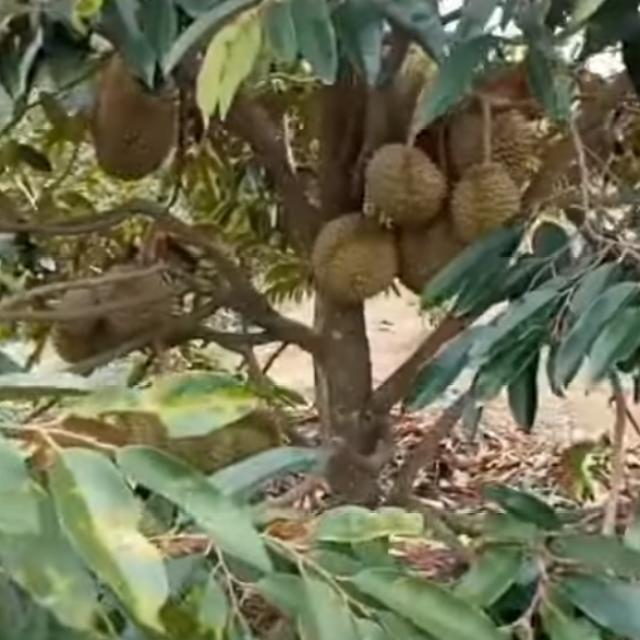mature: (448, 154, 525, 256), (315, 218, 402, 301), (360, 146, 446, 229)
